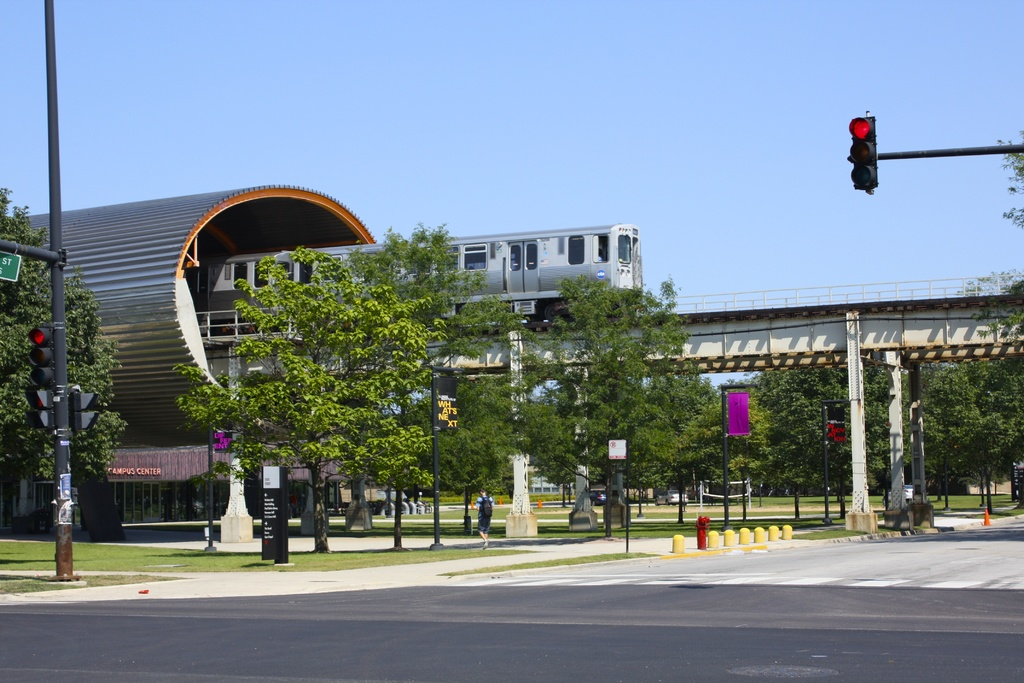red_light: (850, 119, 878, 190)
